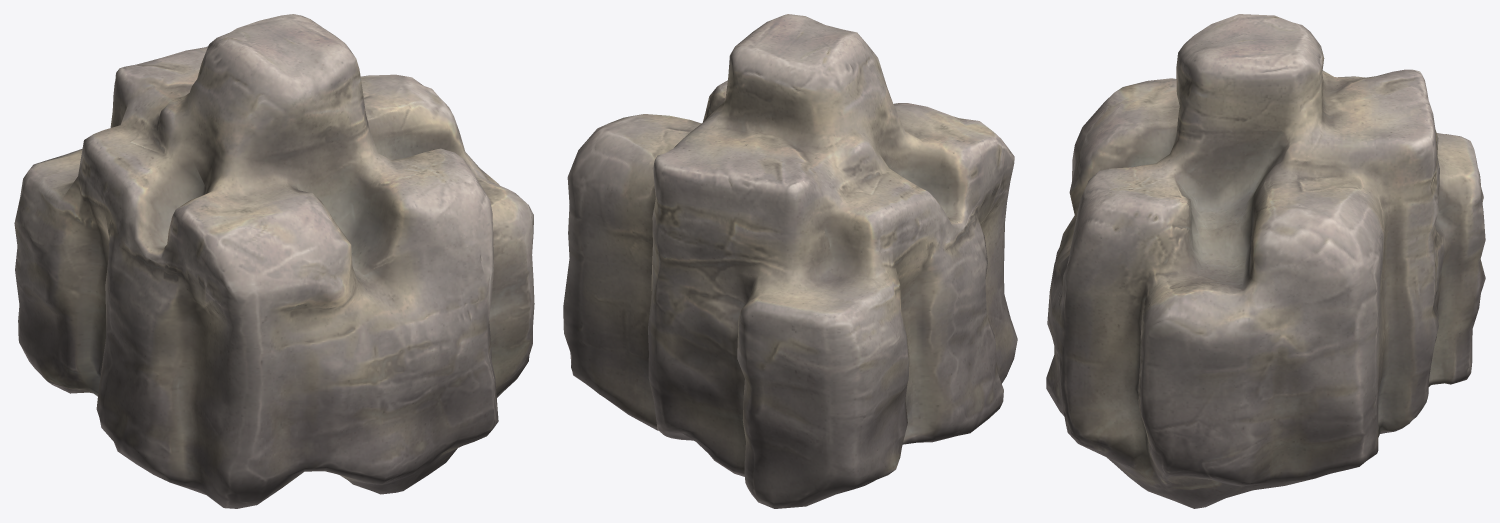
File: Cliff.fbx
The picture shows the model from 3 angles, left to right: view 1: azimuth 30°, elevation 25°; view 2: azimuth 150°, elevation 25°; view 3: azimuth 270°, elevation 25°; orthographic projection. The views are drawn at different scales.
Visible parts, largest first — view 1: Cliff_LOD0; view 2: Cliff_LOD0; view 3: Cliff_LOD0.
Boxes of the visible parts, bbox=[...] form: Cliff_LOD0: bbox=[14, 14, 534, 508]; Cliff_LOD0: bbox=[563, 14, 1017, 508]; Cliff_LOD0: bbox=[1046, 14, 1485, 508].
Size of what is drawn, in the model's own units: 682 by 712 by 686.
